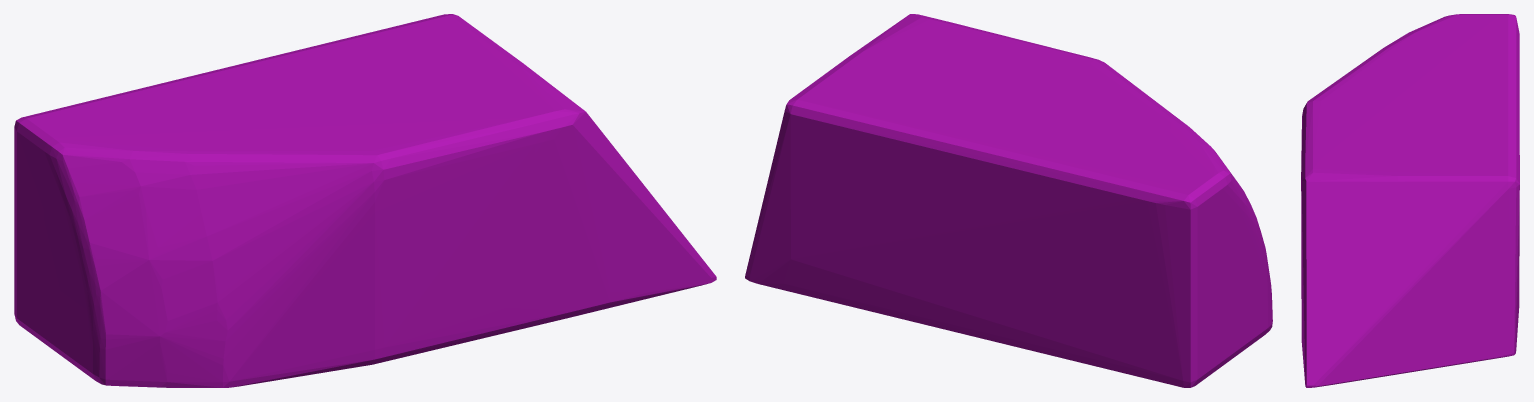
File: left_hip_yaw_link_part_22.obj
The picture shows the model from 3 angles, left to right: view 1: azimuth 30°, elevation 25°; view 2: azimuth 150°, elevation 25°; view 3: azimuth 270°, elevation 25°; orthographic projection. The views are drawn at different scales.
Bounding box in the file's own units: 0.0968 × 0.0337 × 0.0411.
